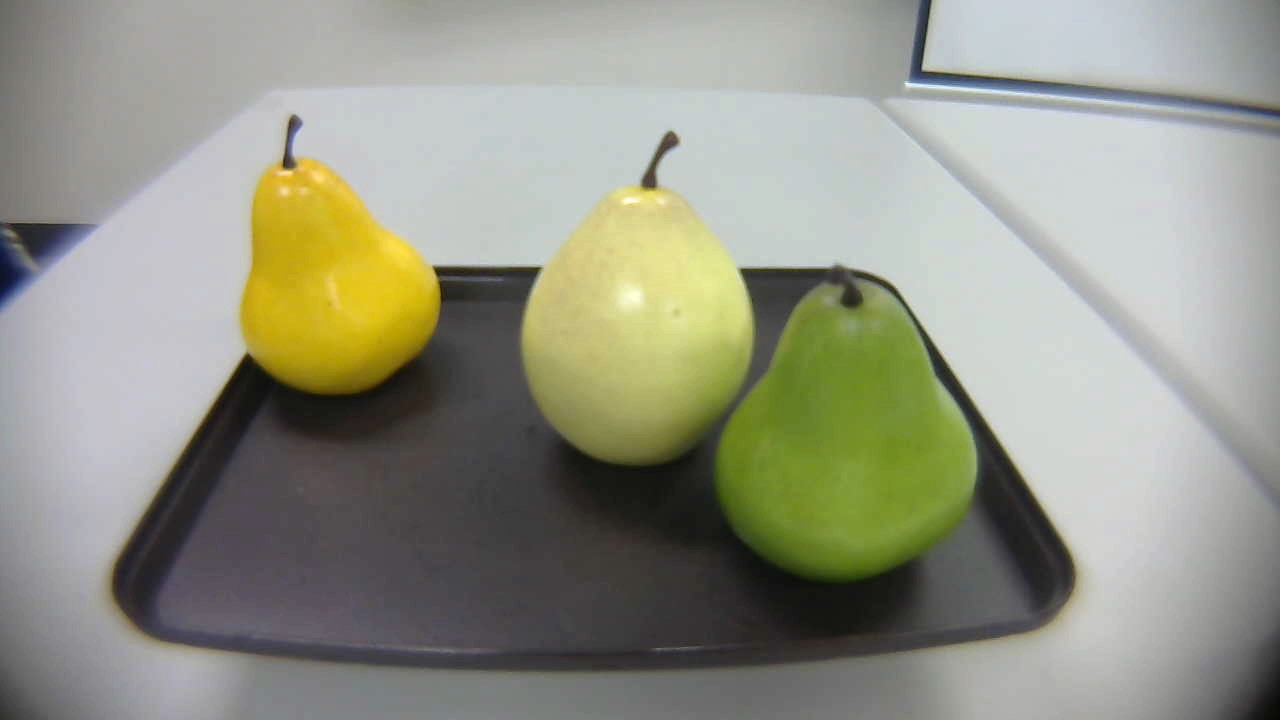green pear: (712, 256, 983, 577)
western pear: (509, 119, 768, 487)
yellow pear: (231, 109, 452, 408)
